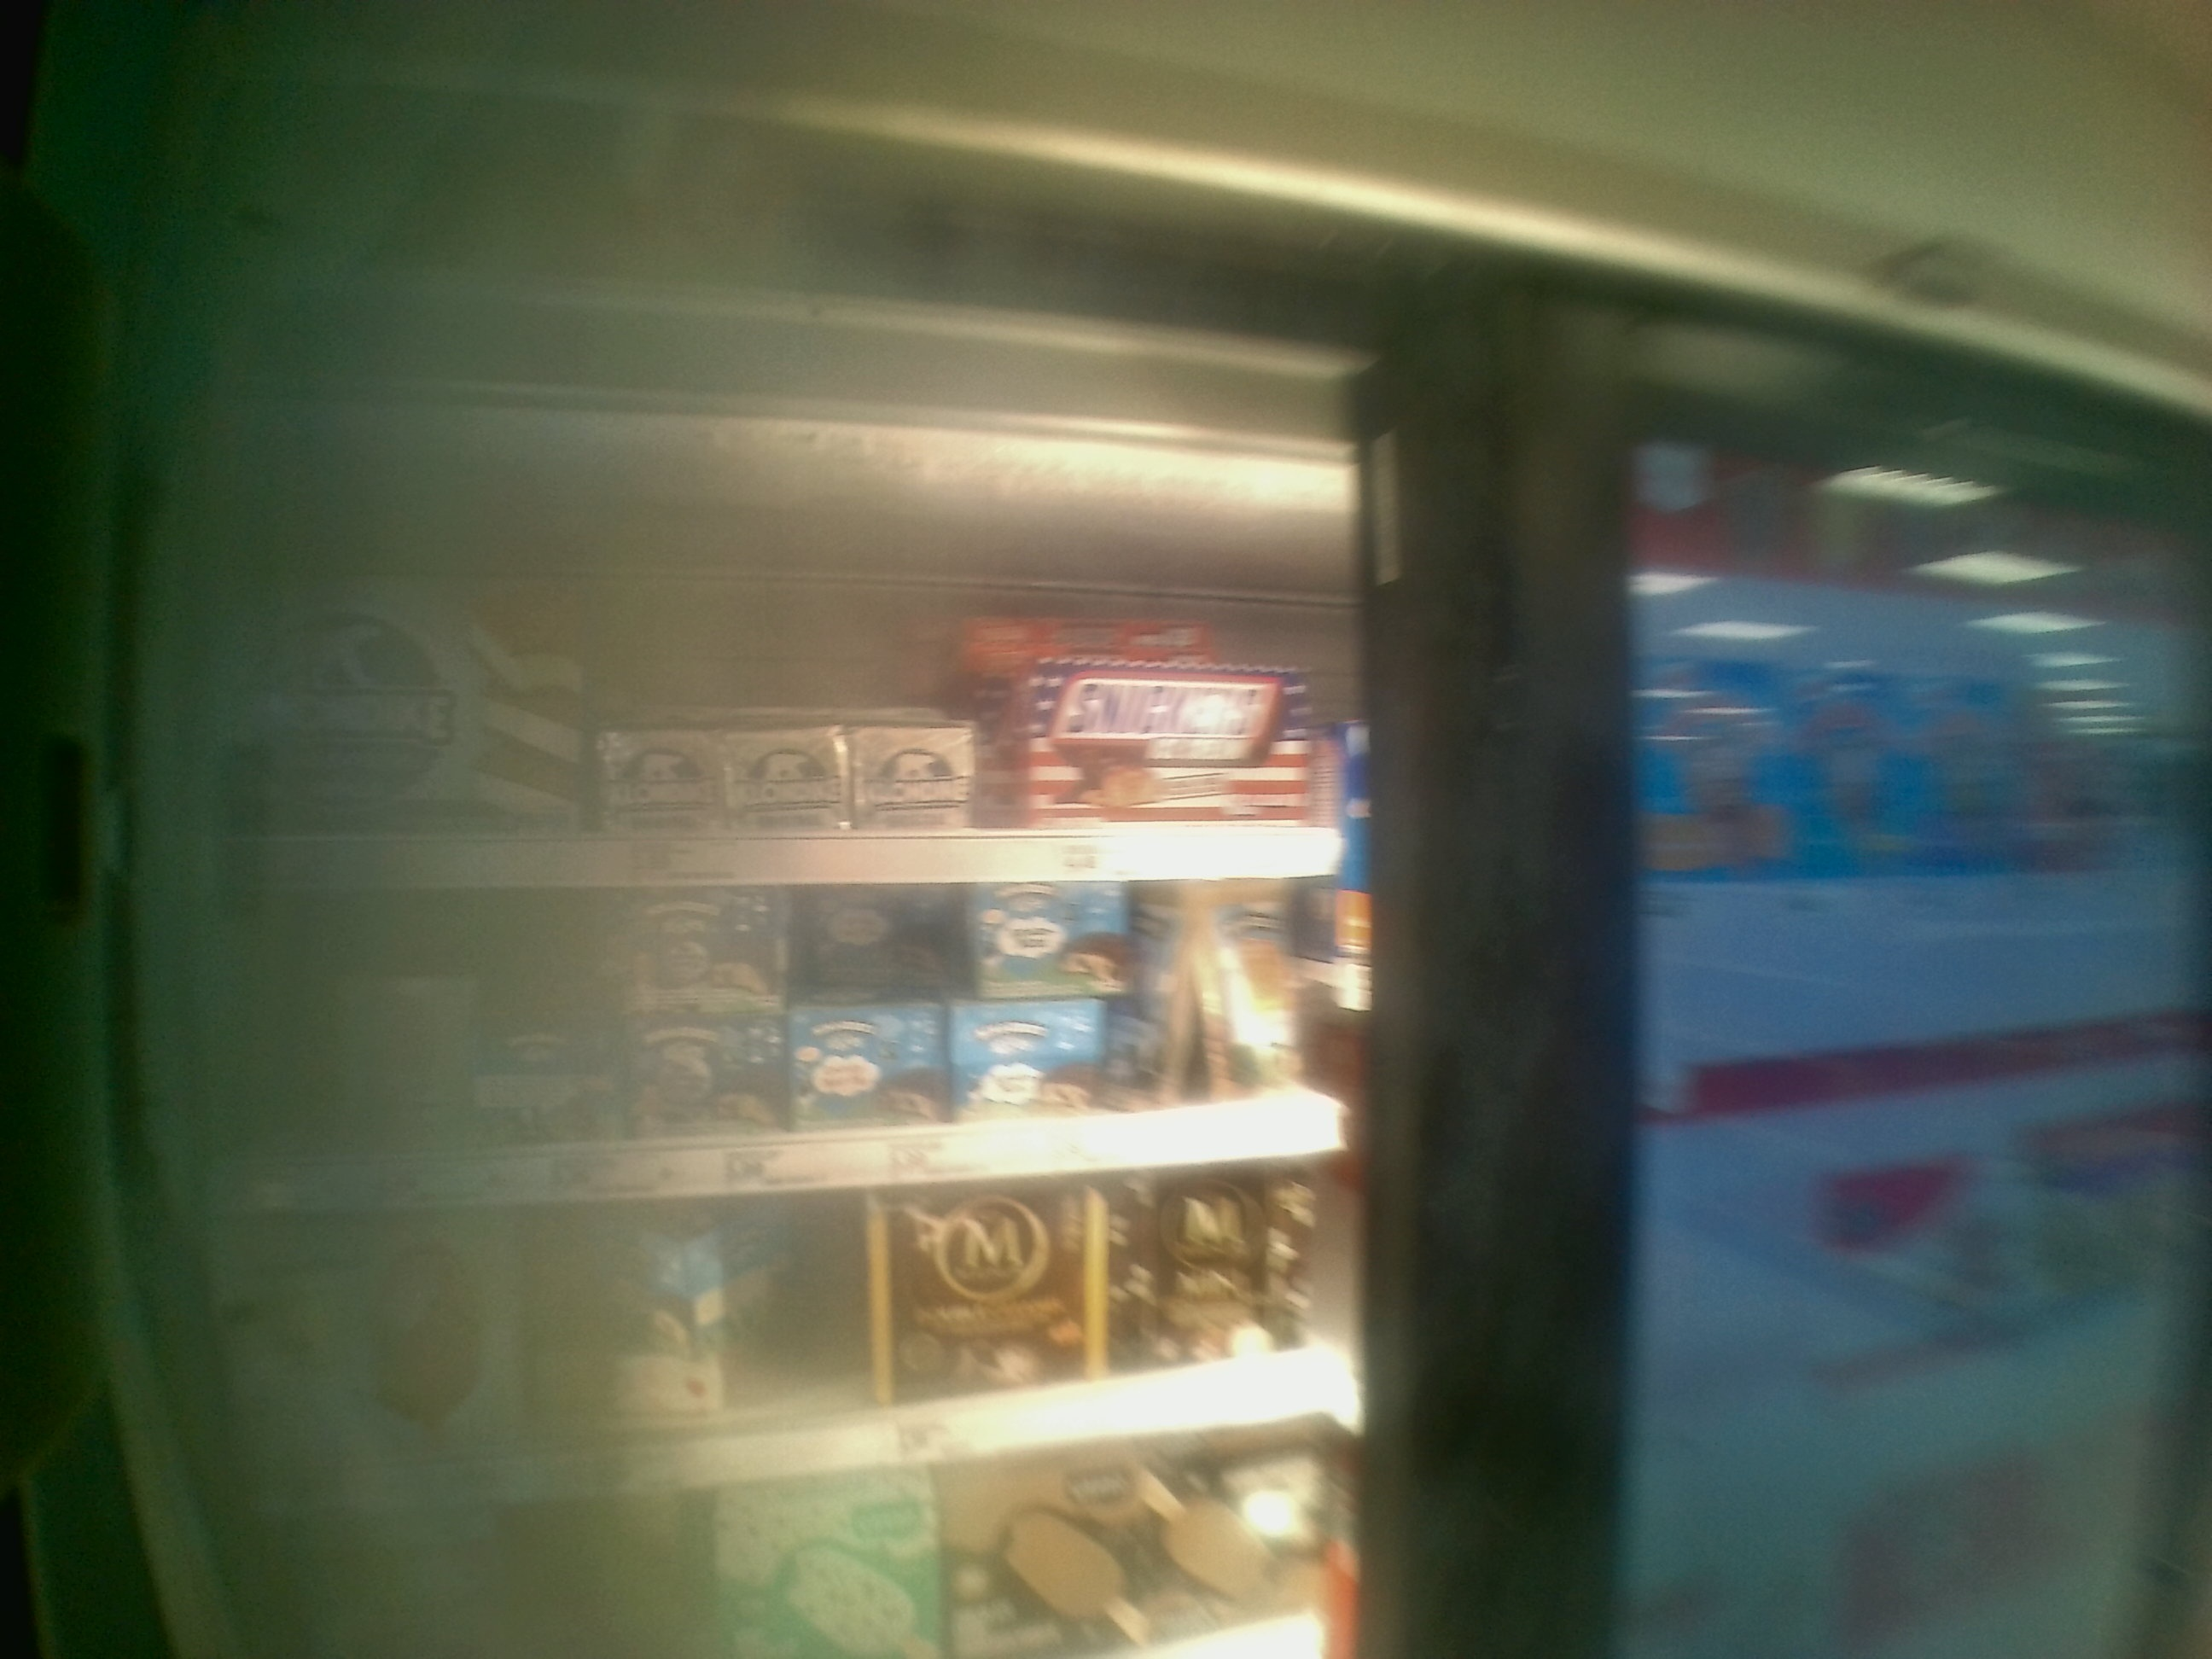ice-cream-shelf: (216, 563, 1367, 887), (211, 887, 1379, 1201)
